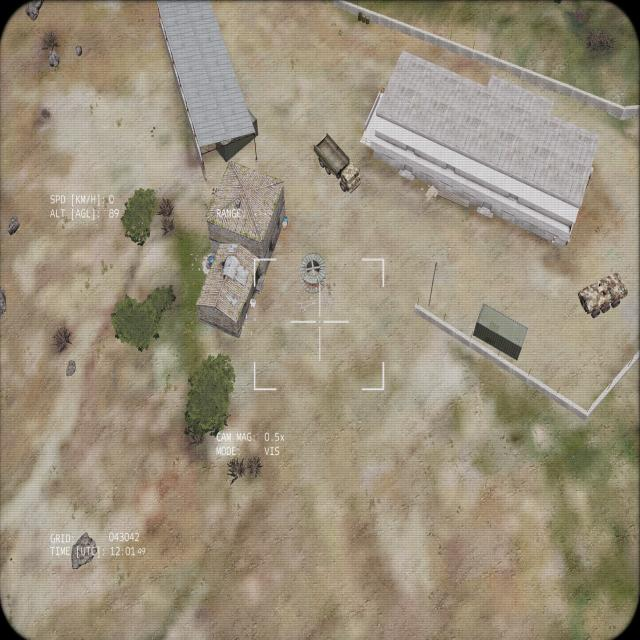apc: (578, 272, 630, 320)
truck: (312, 131, 362, 195)
